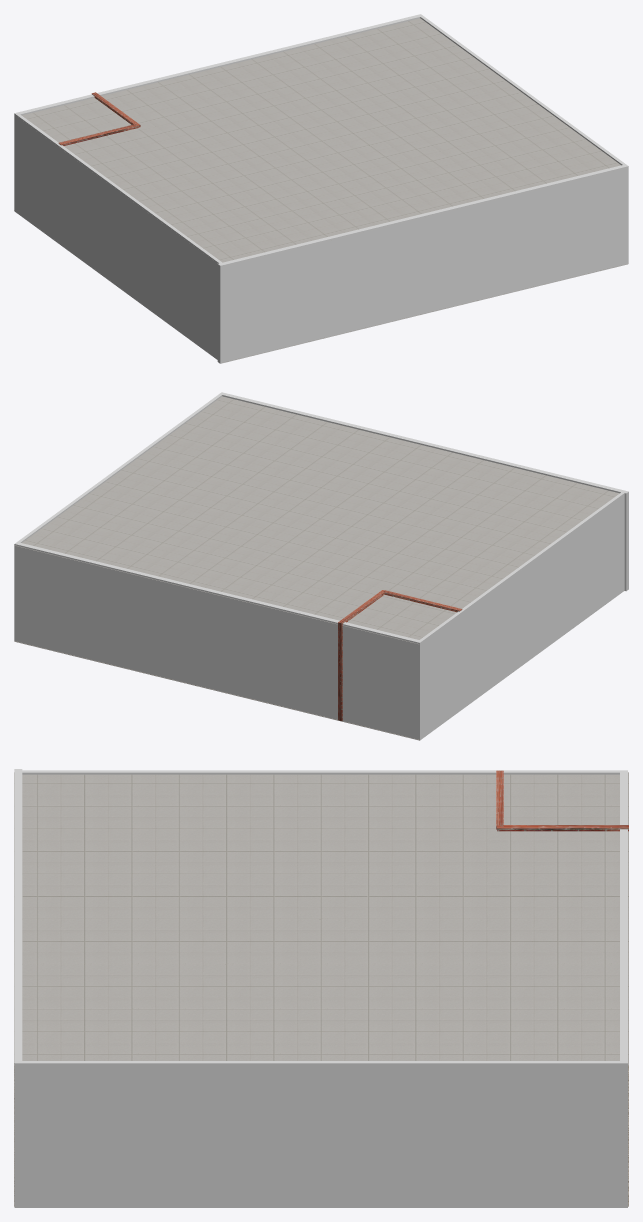
File: Aula (1).fbx
3 renders of one model, top to bottom at view 1: azimuth 30°, elevation 25°; view 2: azimuth 150°, elevation 25°; view 3: azimuth 270°, elevation 25°, orthographic. The views are drawn at different scales.
Visible parts, largest first — view 1: Piso.001, Pared.003, Pared, Pared.001, Pared.002; view 2: Piso.001, Pared.001, Pared, Pared.003, Pared.002, Cube.002; view 3: Piso.001, Pared.002, Pared, Pared.003, Pared.001, Cube.002.
Boxes of the visible parts, x1,y1,x2,y2 form: Piso.001: (14, 18, 628, 266); Pared.003: (217, 164, 628, 363); Pared: (14, 112, 224, 359); Pared.001: (14, 14, 420, 212); Pared.002: (419, 14, 628, 263); Piso.001: (14, 396, 619, 644); Pared.001: (16, 542, 422, 740); Pared: (417, 490, 626, 738); Pared.003: (222, 392, 628, 591); Pared.002: (14, 392, 224, 641); Cube.002: (338, 590, 384, 721); Piso.001: (14, 772, 628, 1065); Pared.002: (15, 1061, 627, 1207); Pared: (15, 770, 627, 774); Pared.003: (14, 769, 22, 1207); Pared.001: (620, 770, 627, 1061); Cube.002: (497, 825, 628, 831).
Size of the model in its own units: 1499 by 348 by 1324.
